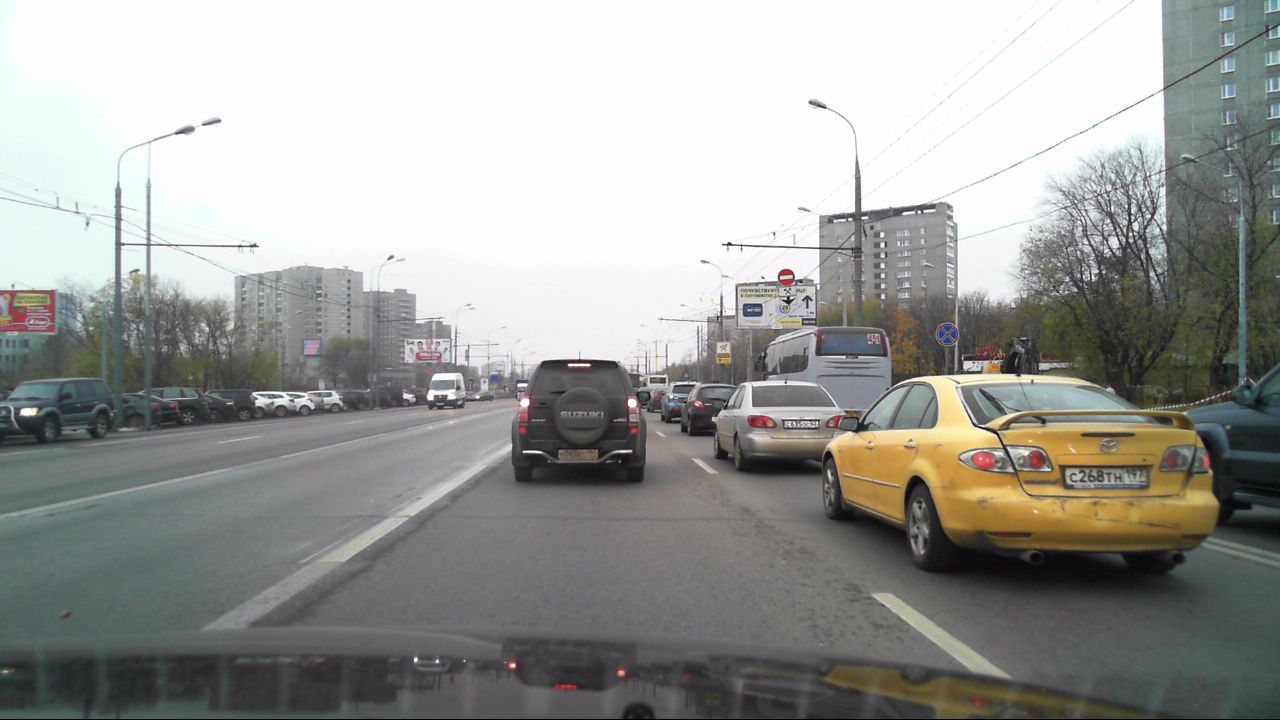No Parking: (934, 322, 959, 348)
